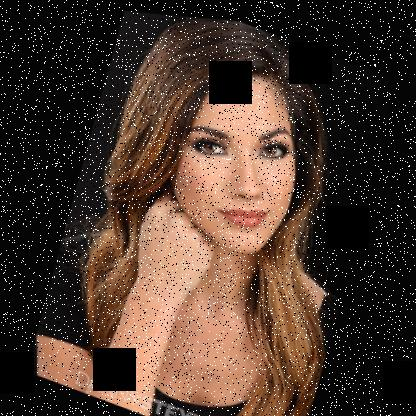Female: (156, 42, 324, 266)
